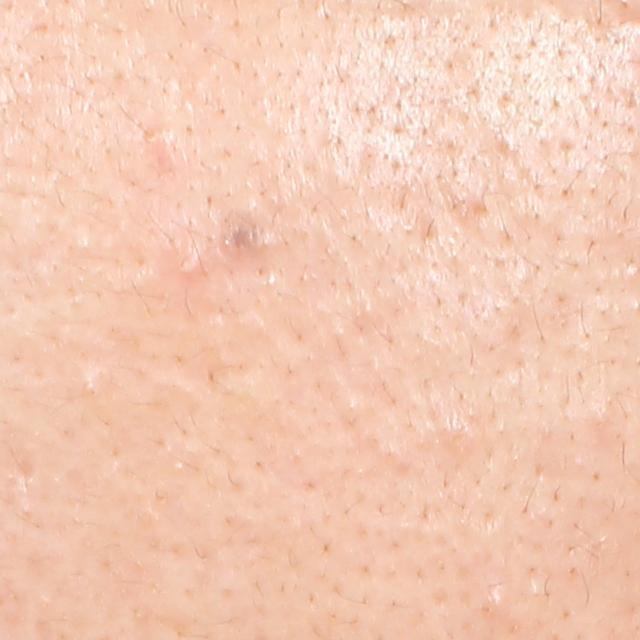comedo: (432, 417, 478, 461), (472, 583, 518, 622), (72, 367, 114, 407), (171, 247, 207, 282), (146, 124, 183, 156)
